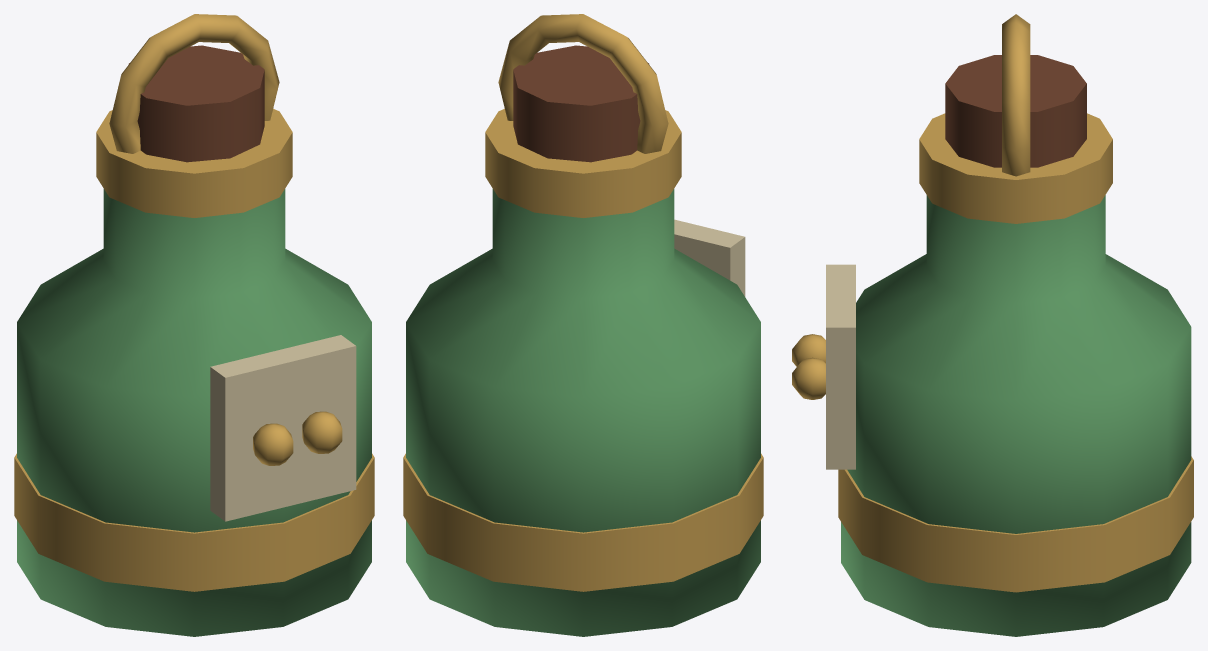
The model's file is remedy.fbx.
3 renders of one model, left to right at view 1: azimuth 30°, elevation 25°; view 2: azimuth 150°, elevation 25°; view 3: azimuth 270°, elevation 25°, orthographic.
Visible parts, largest first — view 1: remedy; view 2: remedy; view 3: remedy.
Part boxes in pixels (box(x1,y1,x2,y2)): remedy: box(14, 14, 374, 636); remedy: box(403, 14, 763, 636); remedy: box(792, 14, 1193, 636).
Size of the model in its own units: 0.4771 by 0.8 by 0.5391.
